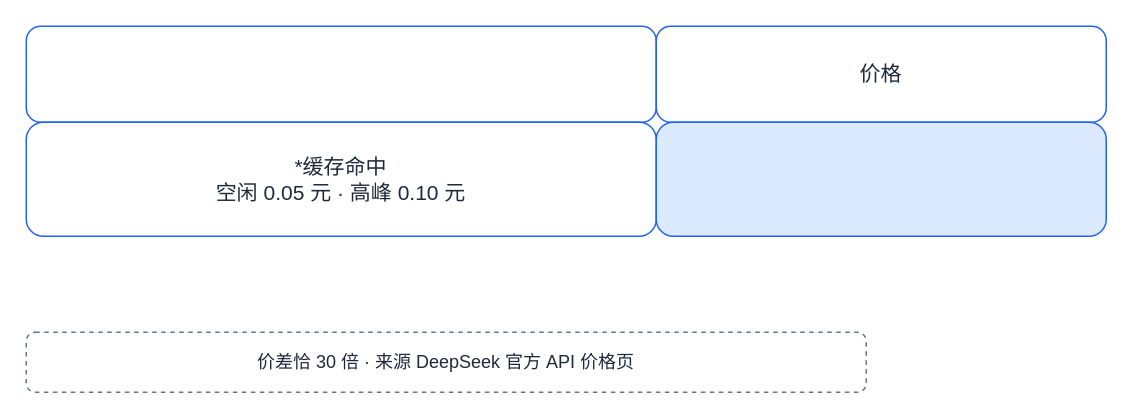
This 1133x419 diagram has some shape labels left out. Here are the shapes that lost their labels. From the top down, the centre of each, then its label:
At pixel 340 73: "输入档位（v4-flash · 每百万 token）".
At pixel 880 178: "未命中 空闲 1.5 元 · 高峰 3.0 元".
